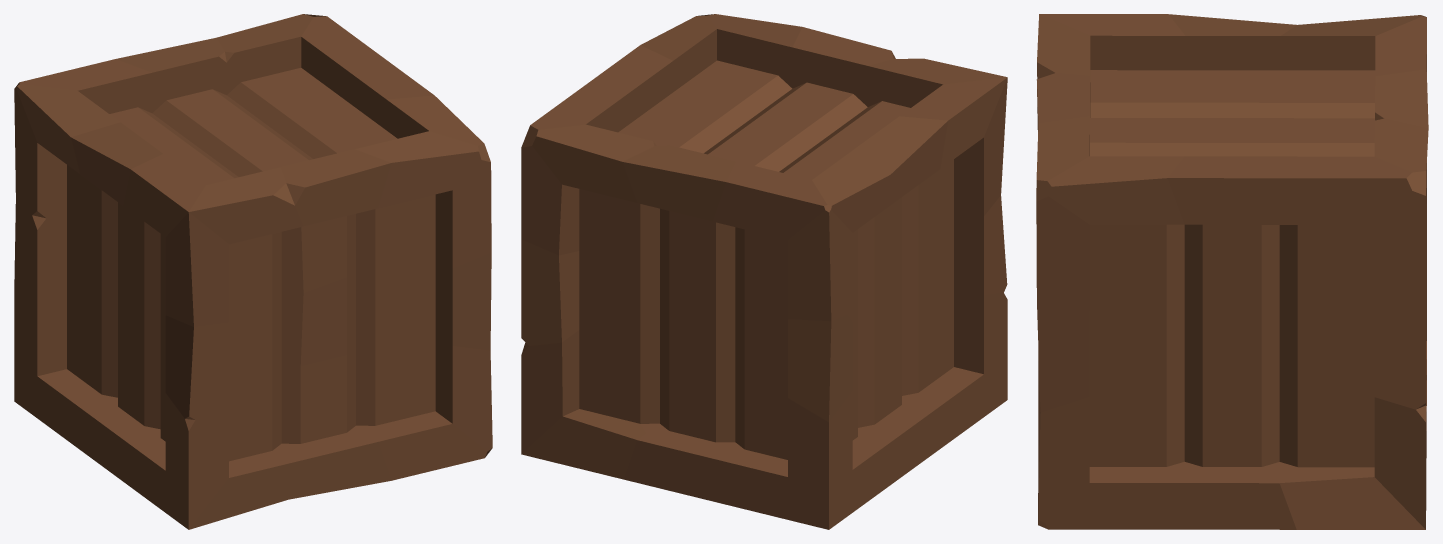
3 renders of one model, left to right at view 1: azimuth 30°, elevation 25°; view 2: azimuth 150°, elevation 25°; view 3: azimuth 270°, elevation 25°, orthographic. The views are drawn at different scales.
Parts seen in each view (by area): view 1: Cassa.003; view 2: Cassa.003; view 3: Cassa.003.
Part boxes in pixels (x1,y1,x2,y2): Cassa.003: [14, 14, 492, 529]; Cassa.003: [521, 14, 1007, 529]; Cassa.003: [1036, 14, 1428, 529].
Size of the model in its own units: 1.21 by 1.2 by 1.21.
